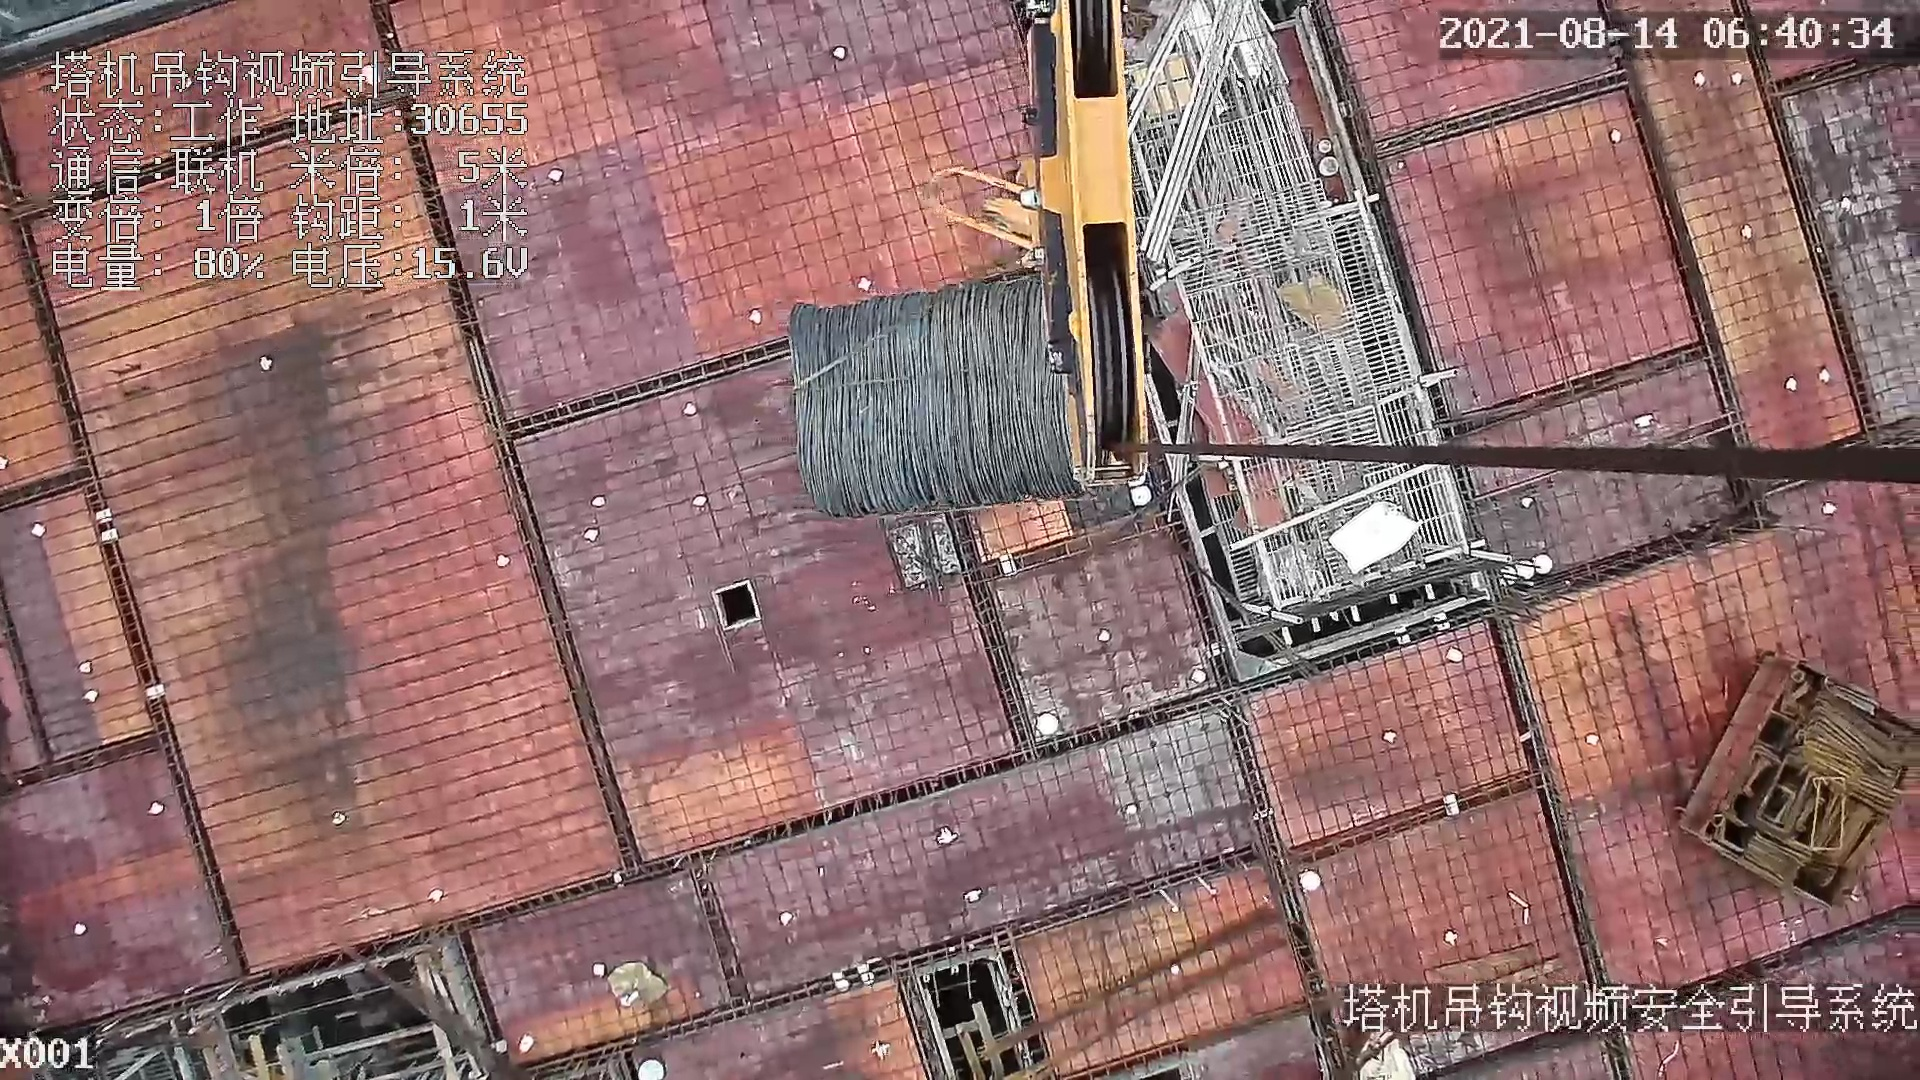hook: (927, 5, 1149, 487)
